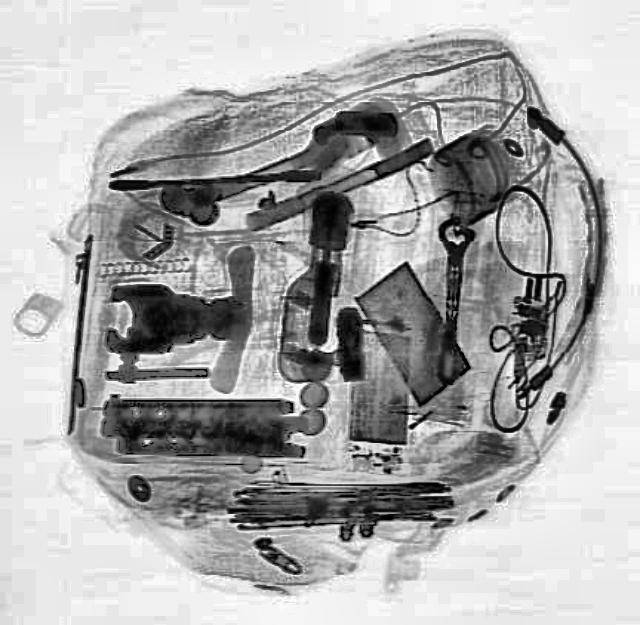Wrench: (426, 213, 474, 383)
